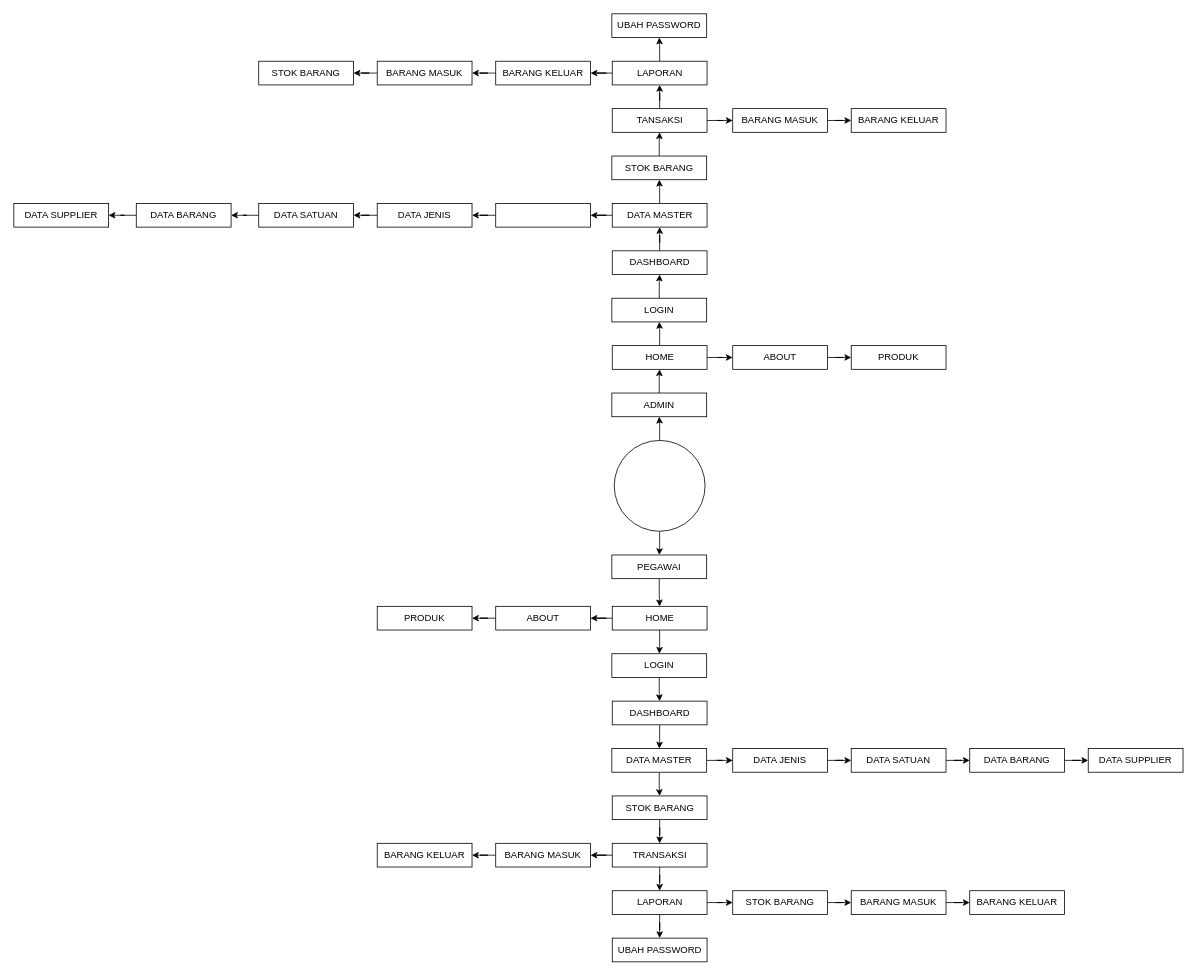
Some shapes in this 1197 by 976 pixel diagram are drawn without their labels. Each missing label, with the centre of its shape:
"DATA PEGAWAI" belongs at pixel 543 215.
"SISTEM INFORMASI PERGUDANGAN BAHAN MAKANAN KERING" belongs at pixel 659 485.
